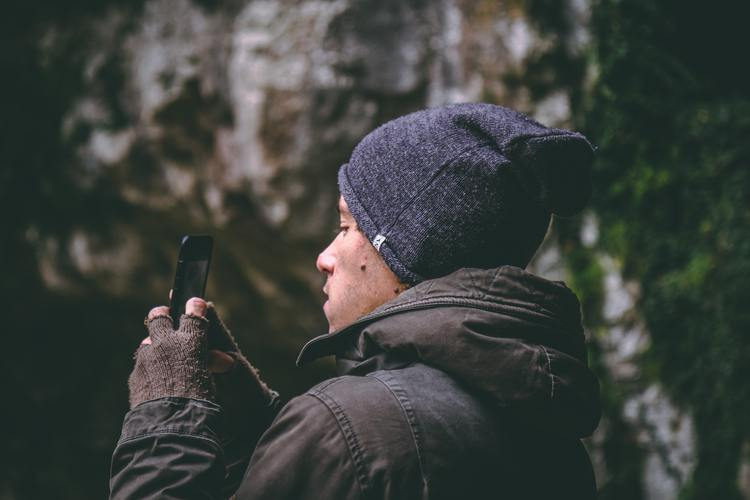taking photos: (122, 226, 269, 408)
